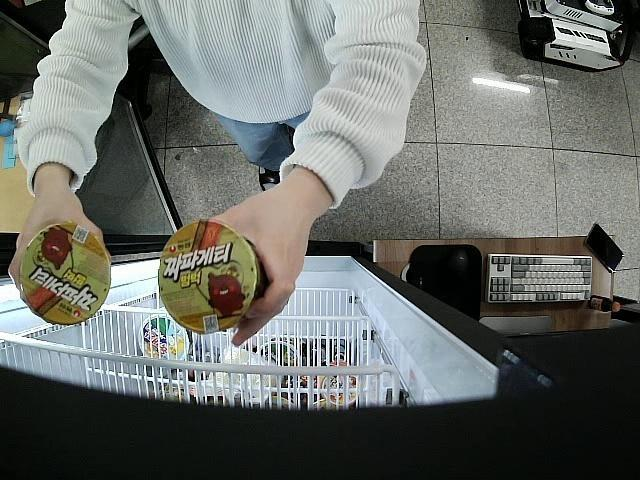04_chapagetti_S: (157, 222, 266, 332), (20, 223, 111, 326)
